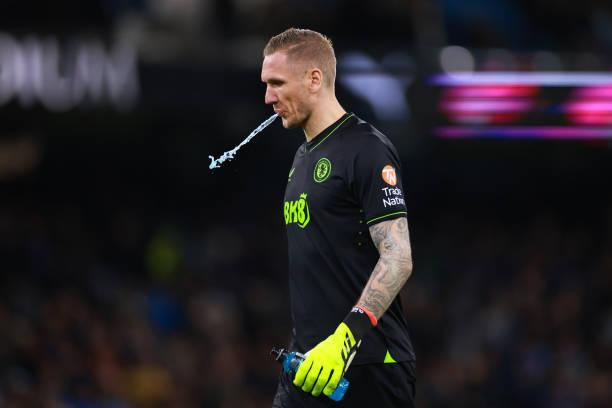Spitting: (215, 12, 347, 141)
